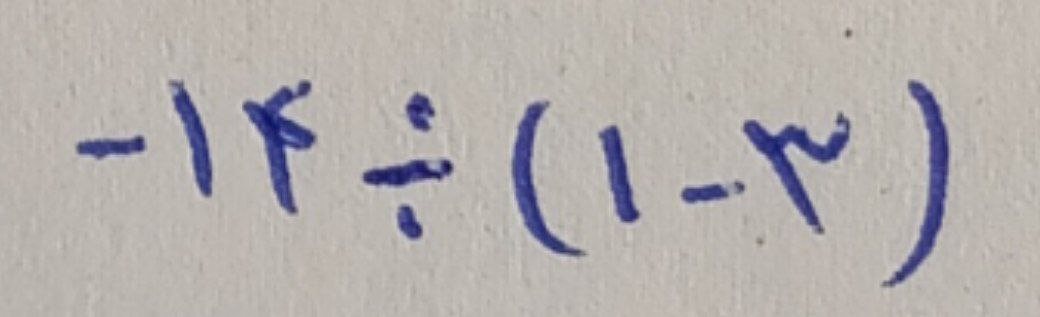character: (356, 83, 460, 244), (881, 71, 954, 291), (506, 91, 592, 261), (744, 106, 854, 238), (231, 75, 319, 219), (156, 71, 223, 202), (595, 113, 644, 231), (64, 128, 149, 166), (673, 174, 748, 204)
